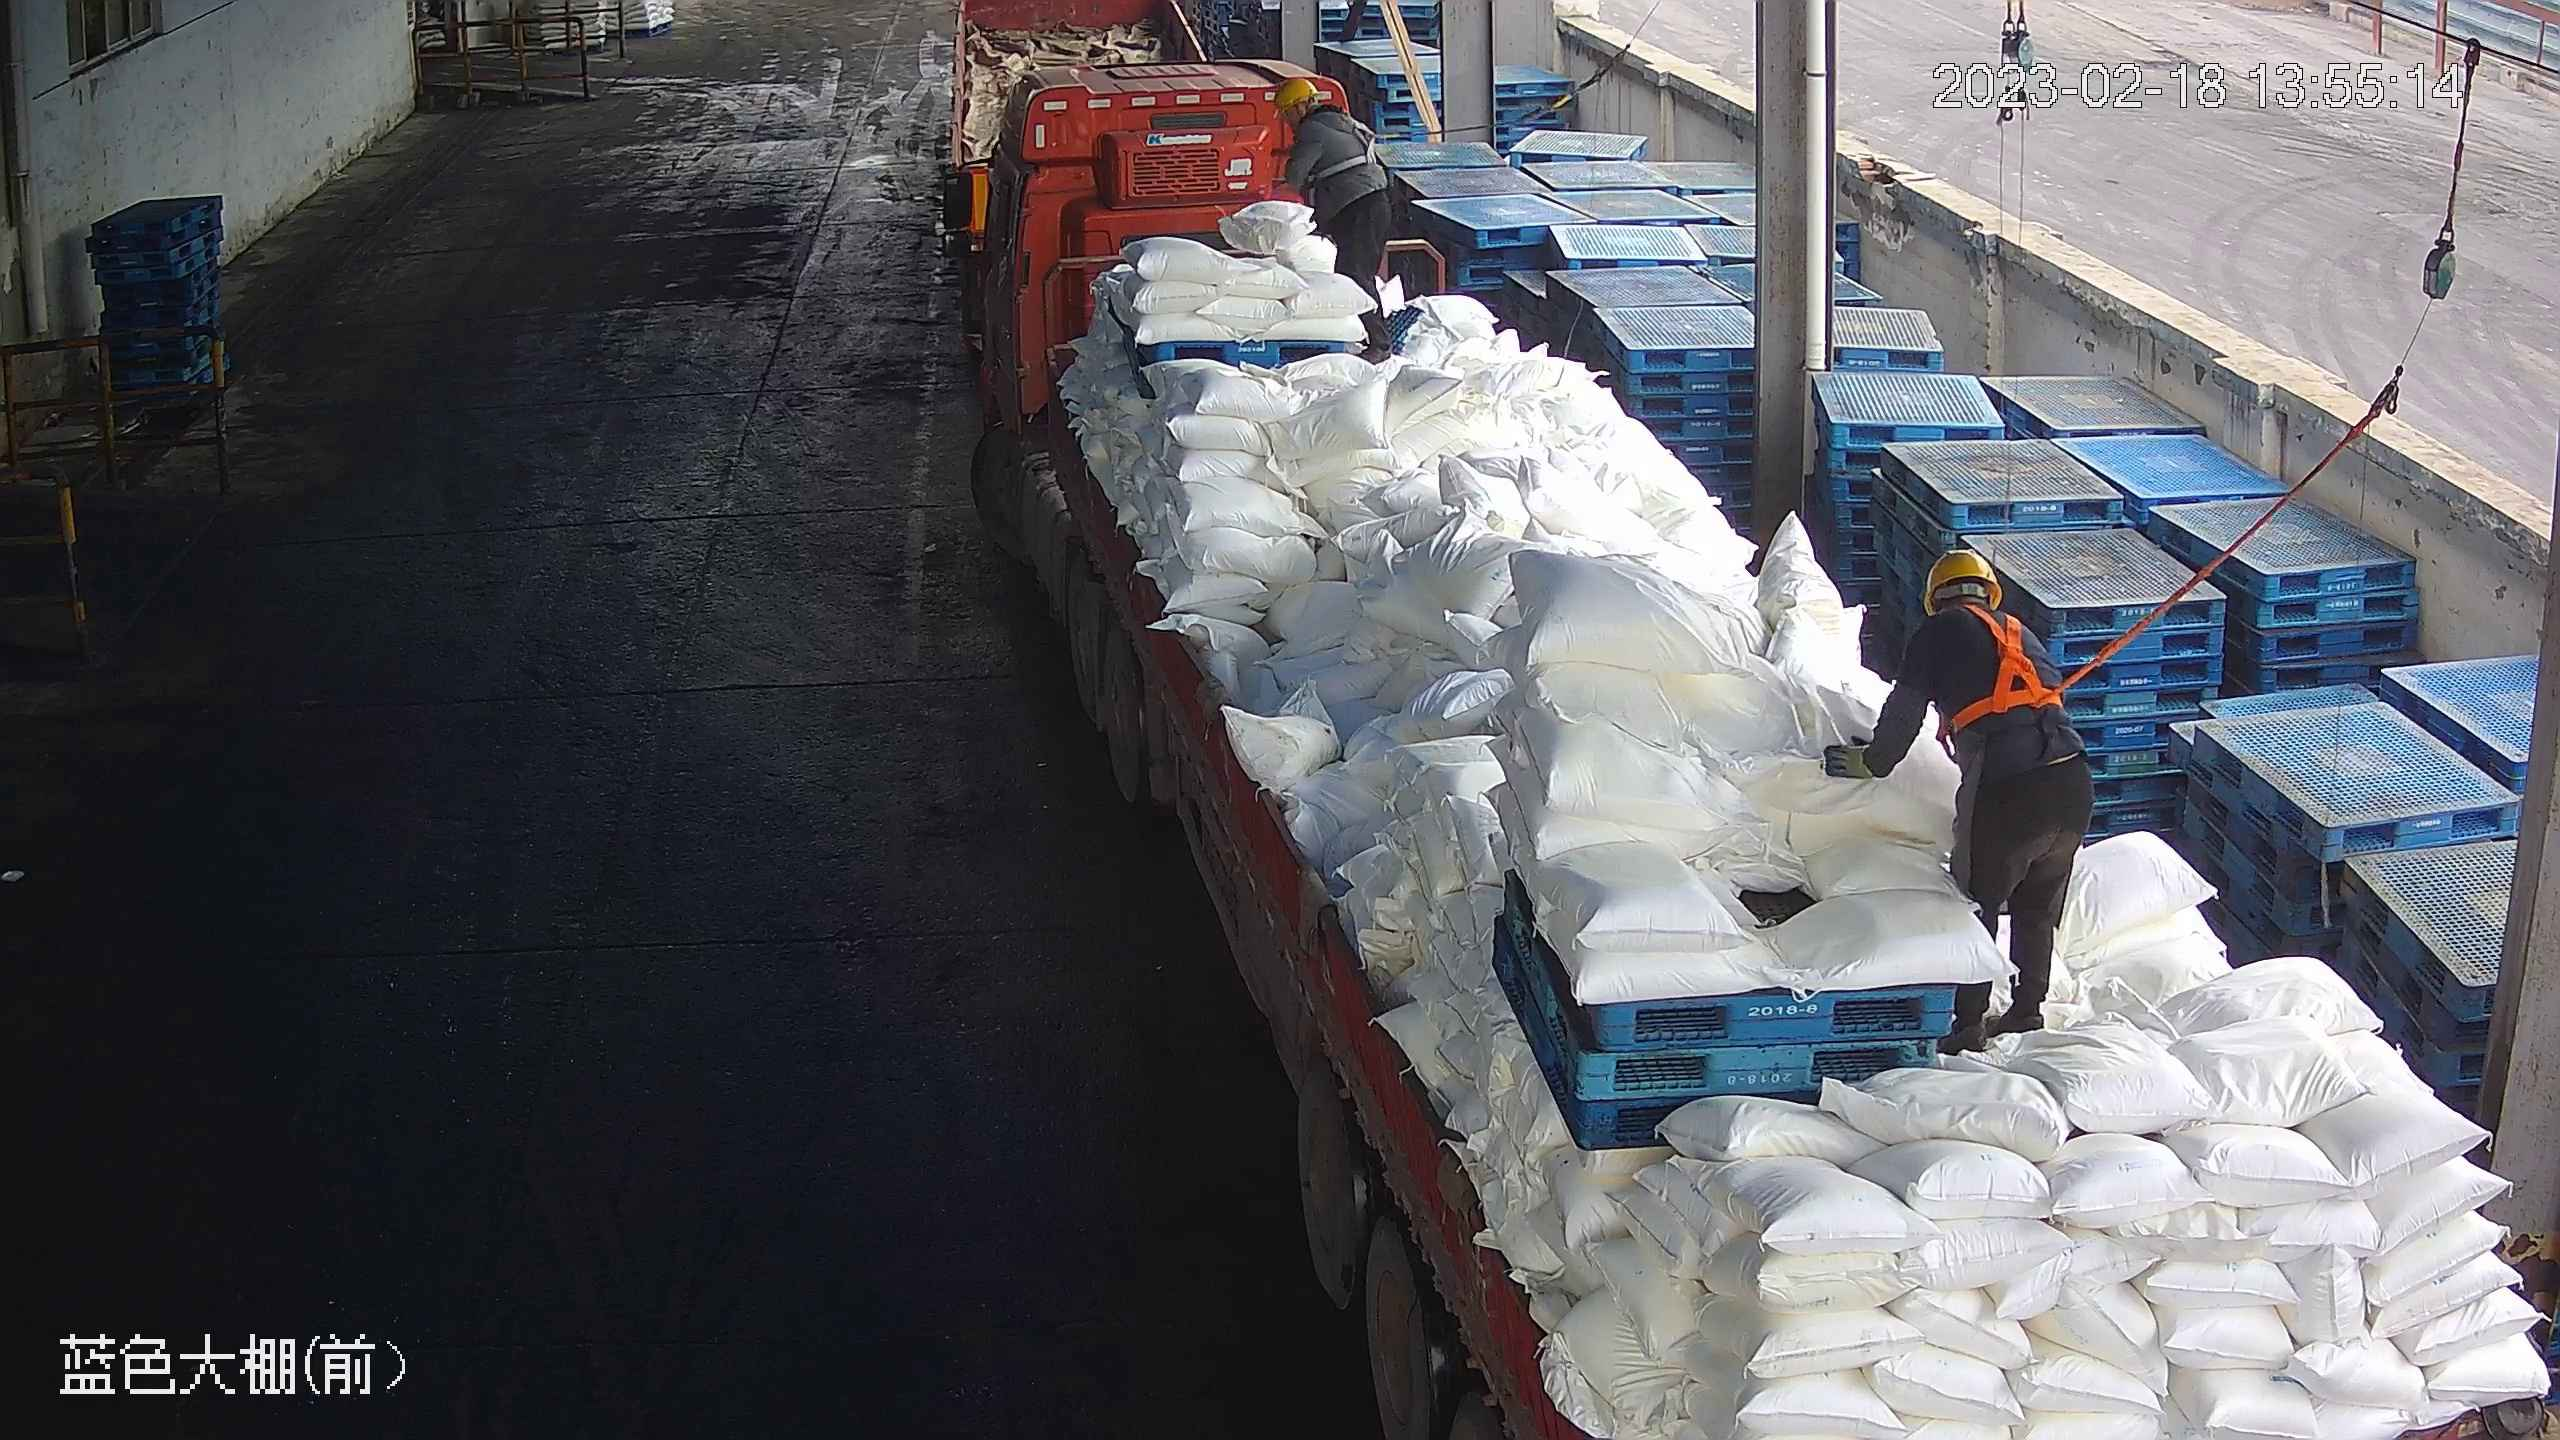belt: (1933, 603, 2070, 734), (1311, 107, 1384, 179)
head: (1903, 547, 2049, 677), (1272, 76, 1371, 153)
helmet: (1919, 544, 1998, 612), (1273, 76, 1322, 113)
people: (1824, 542, 2093, 1056), (1272, 75, 1407, 361)
truck: (942, 59, 2560, 1440)
